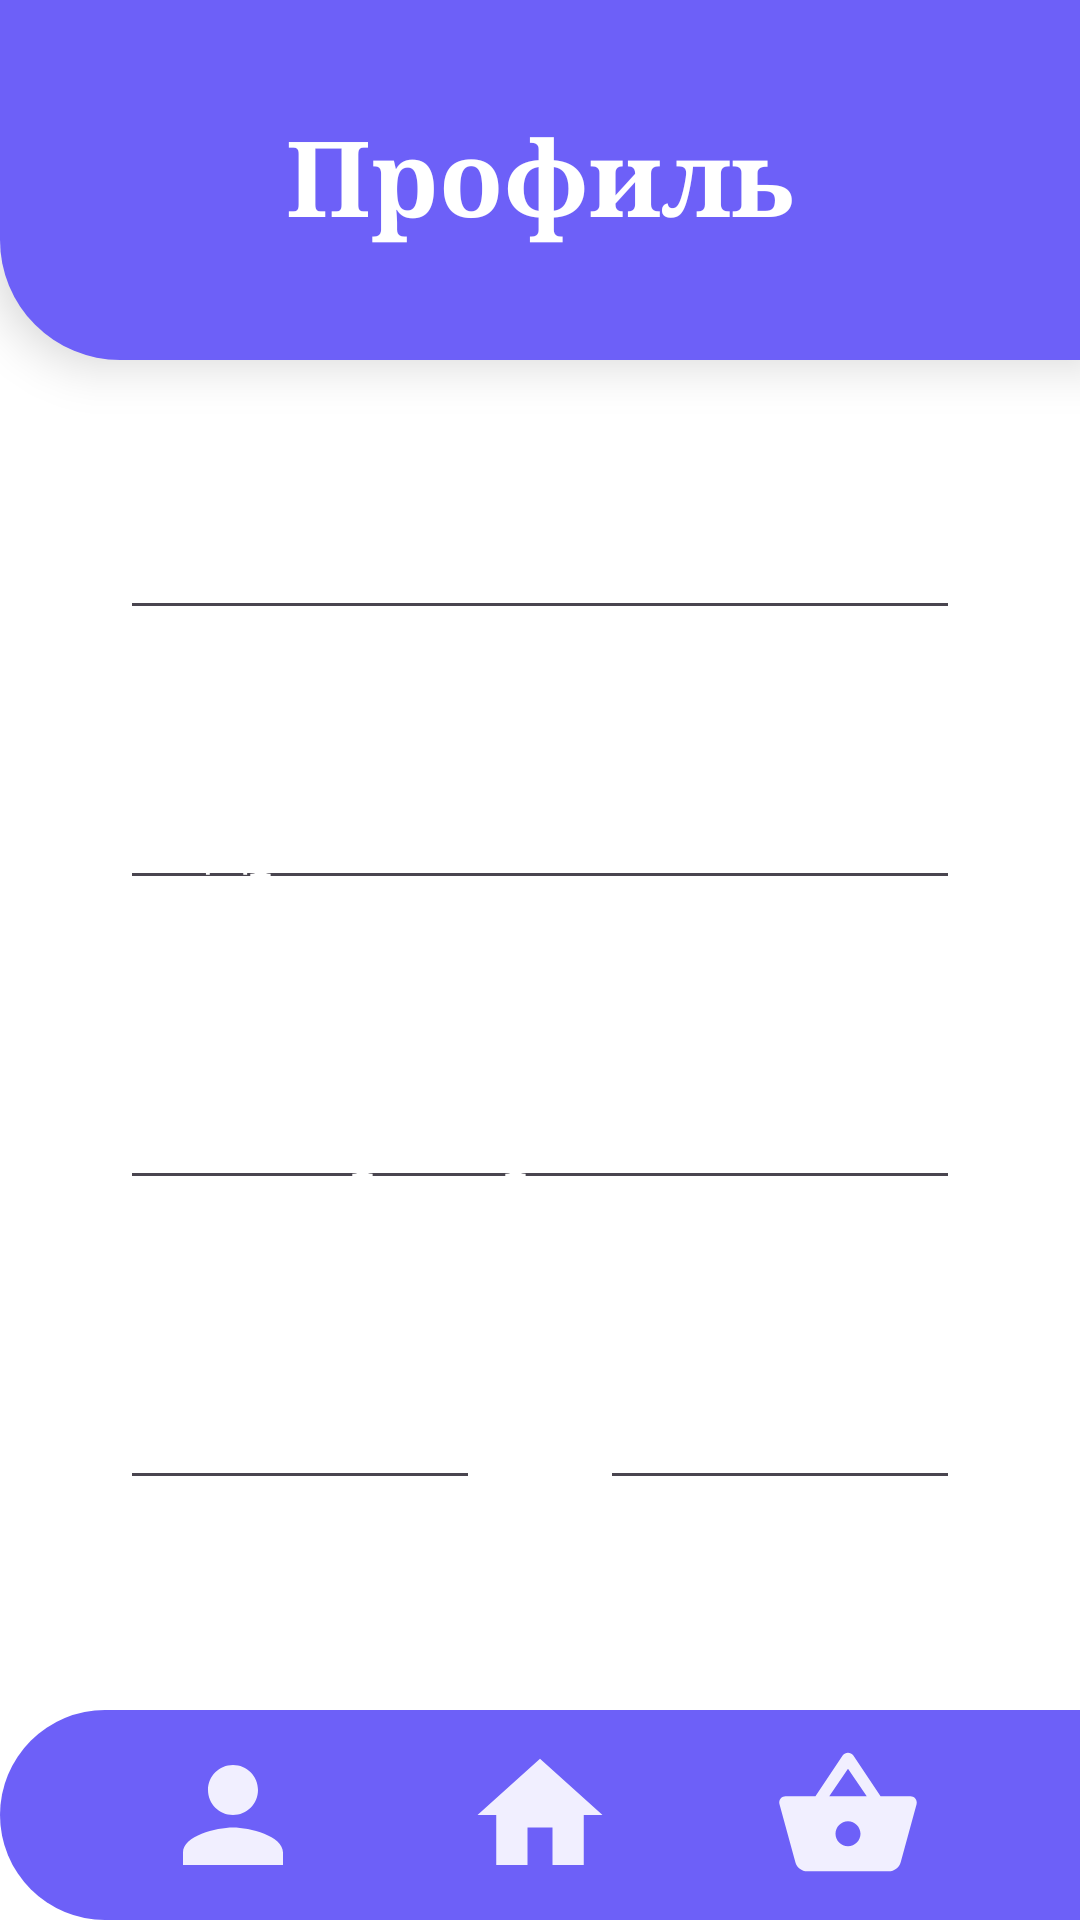

Icon bounding boxes for this 1080px x 1920px phone screenshot, format detection(x1, y1, x2, y2):
home: detection(478, 1759, 602, 1865)
person: detection(183, 1765, 283, 1865)
shopping basket: detection(779, 1752, 917, 1872)
